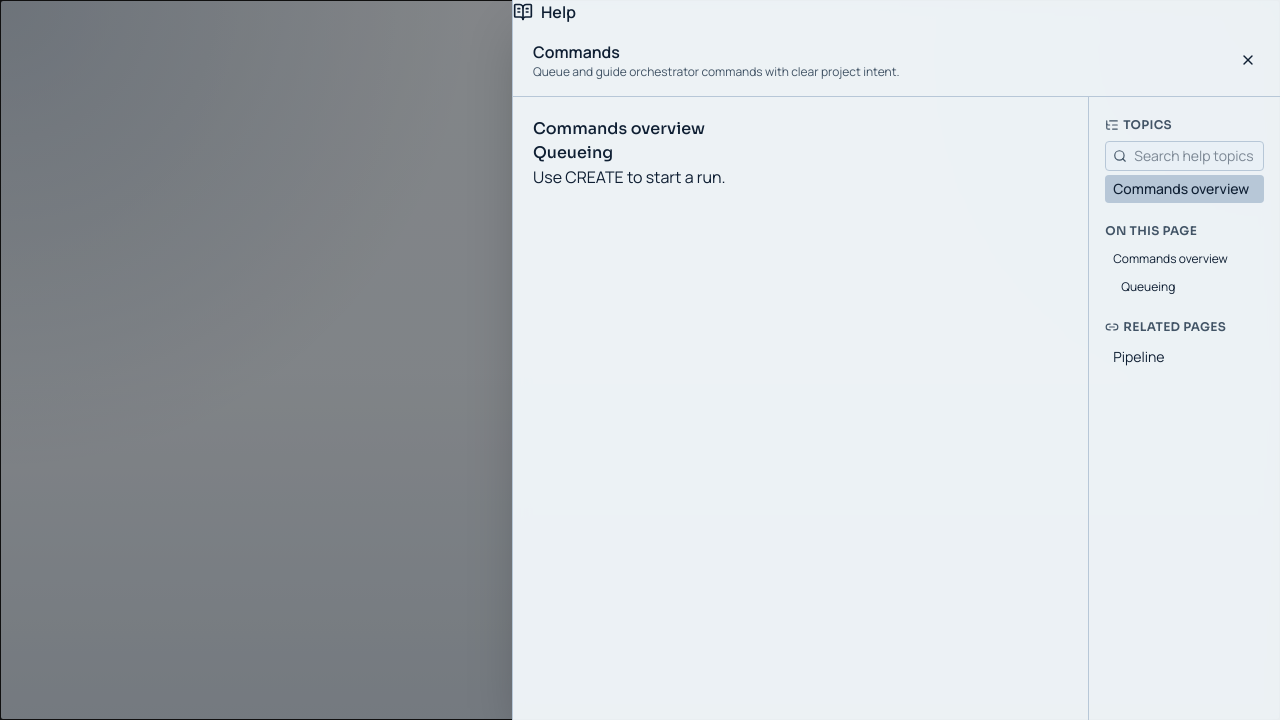
Test: HelpPanel › selecting a topic search result loads that topic in drawer
In the field labelled "Search help topics": (1185, 156) left=1105, top=141, right=1264, bottom=171, type "gate"
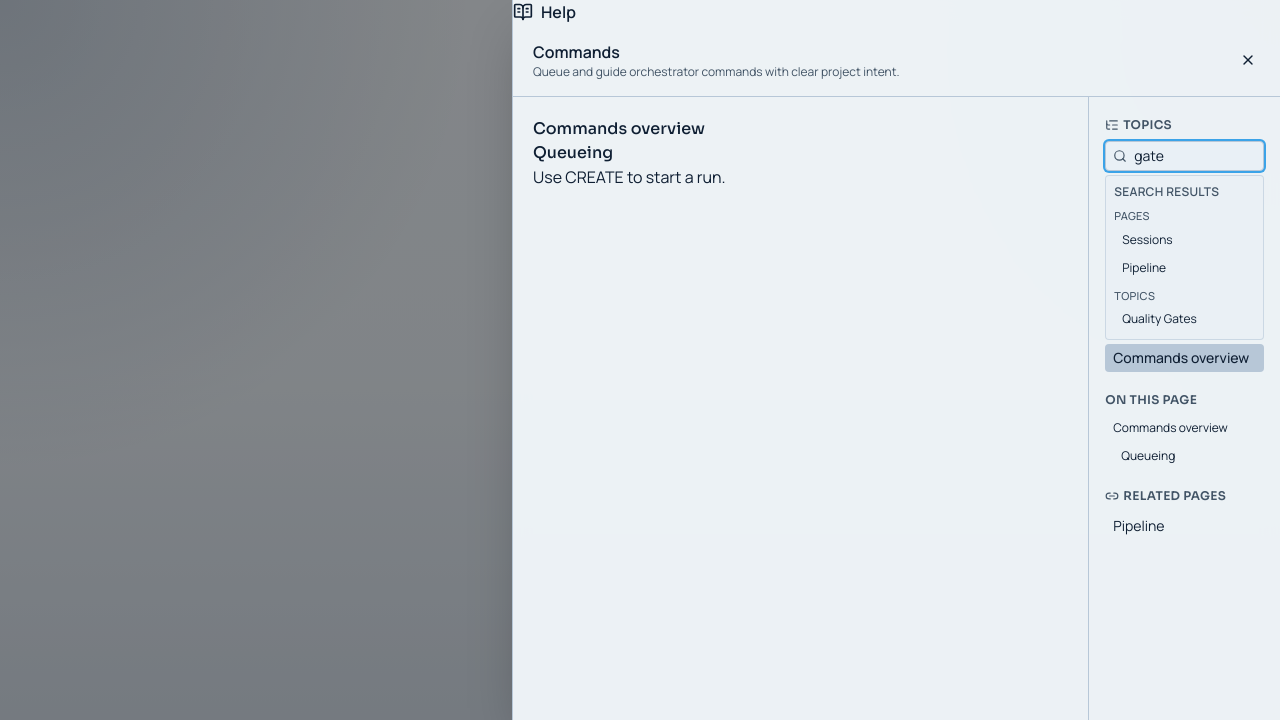
Expected: the button "Quality Gates" is shown
Click the button "Quality Gates": (1185, 319) left=1114, top=307, right=1255, bottom=331
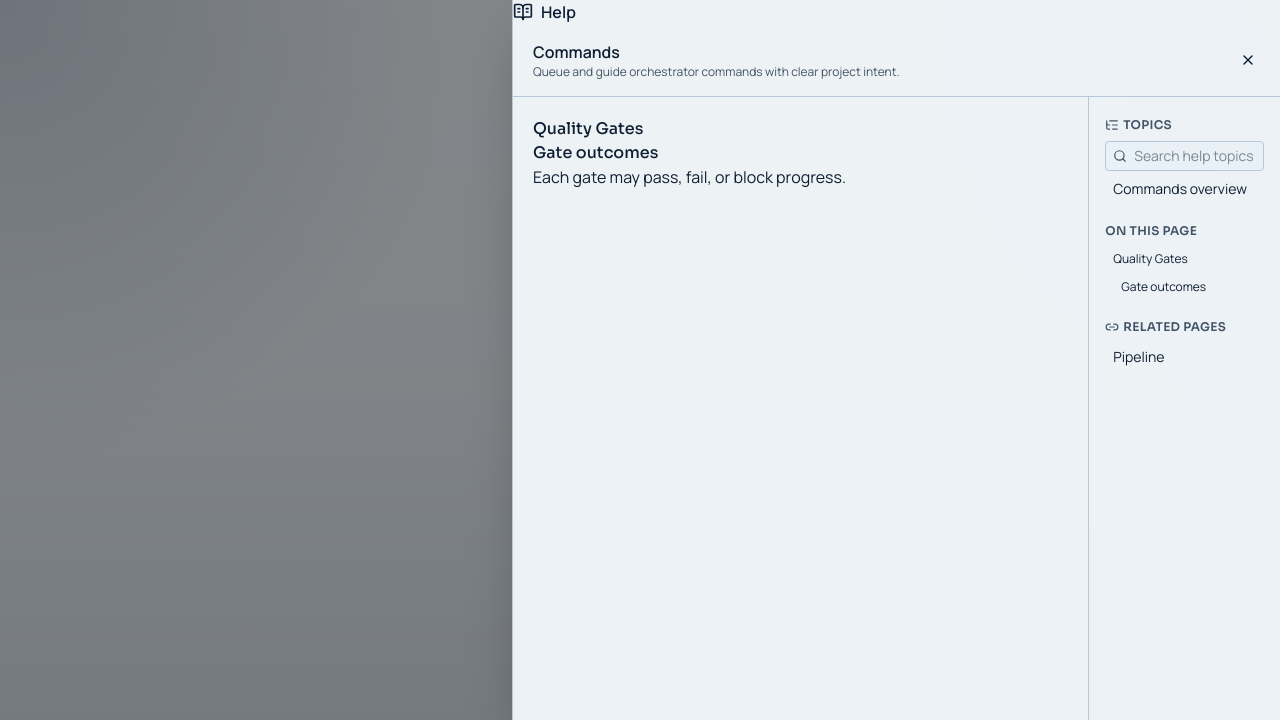
Expected: the heading "Quality Gates" is shown, left=533, top=118, right=643, bottom=139
